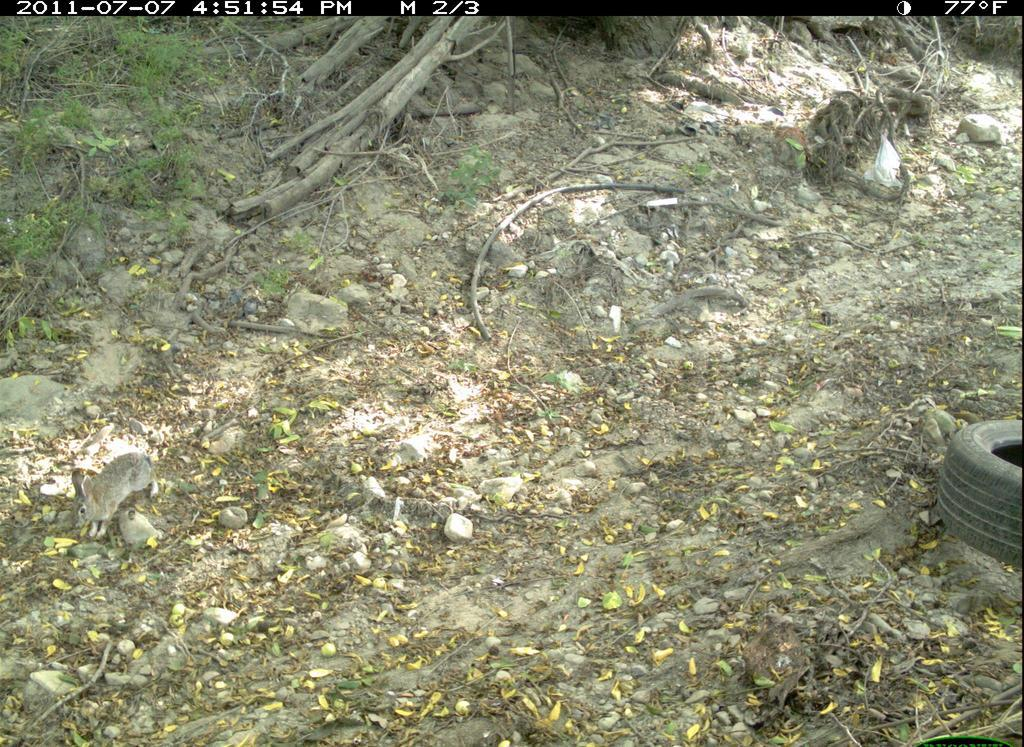rabbit: (61, 448, 167, 538)
